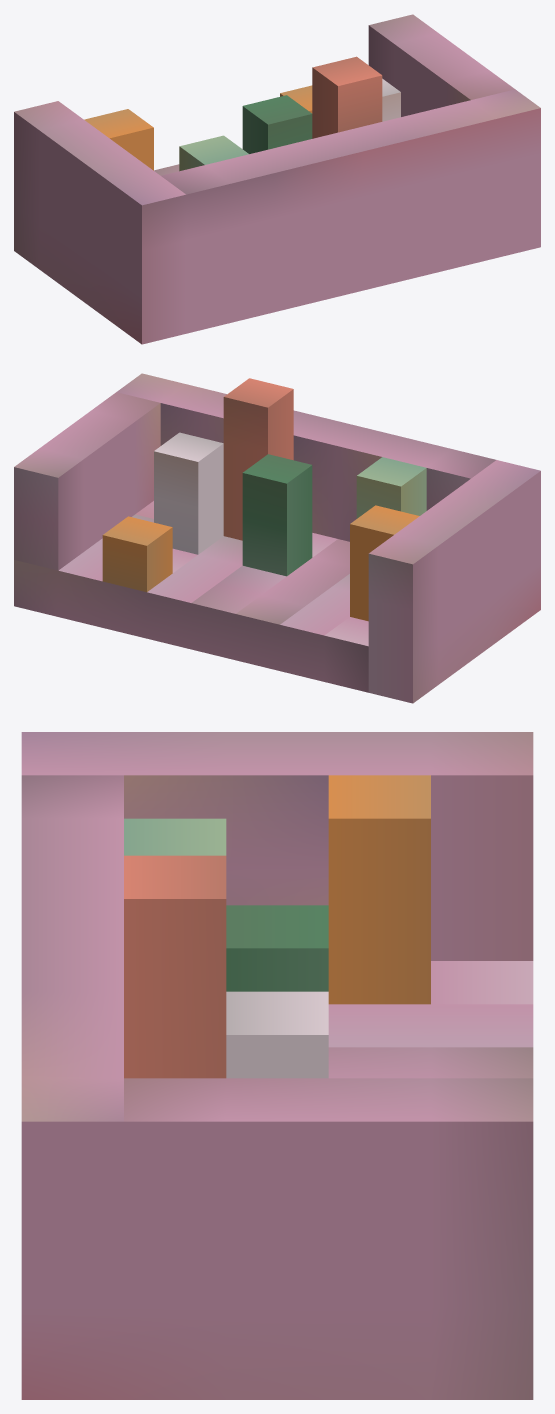
File: ToyStackerPink_02.obj
The picture shows the model from 3 angles, top to bottom: view 1: azimuth 30°, elevation 25°; view 2: azimuth 150°, elevation 25°; view 3: azimuth 270°, elevation 25°; orthographic projection. The views are drawn at different scales.
Visible parts, largest first — view 1: ToyStackerPink_02; view 2: ToyStackerPink_02; view 3: ToyStackerPink_02.
Boxes of the visible parts, left/top/right/bottom form: ToyStackerPink_02: left=14, top=14, right=540, bottom=344; ToyStackerPink_02: left=14, top=373, right=540, bottom=703; ToyStackerPink_02: left=21, top=732, right=533, bottom=1399.
Size of the model in its own units: 0.45 by 0.2 by 0.25.
